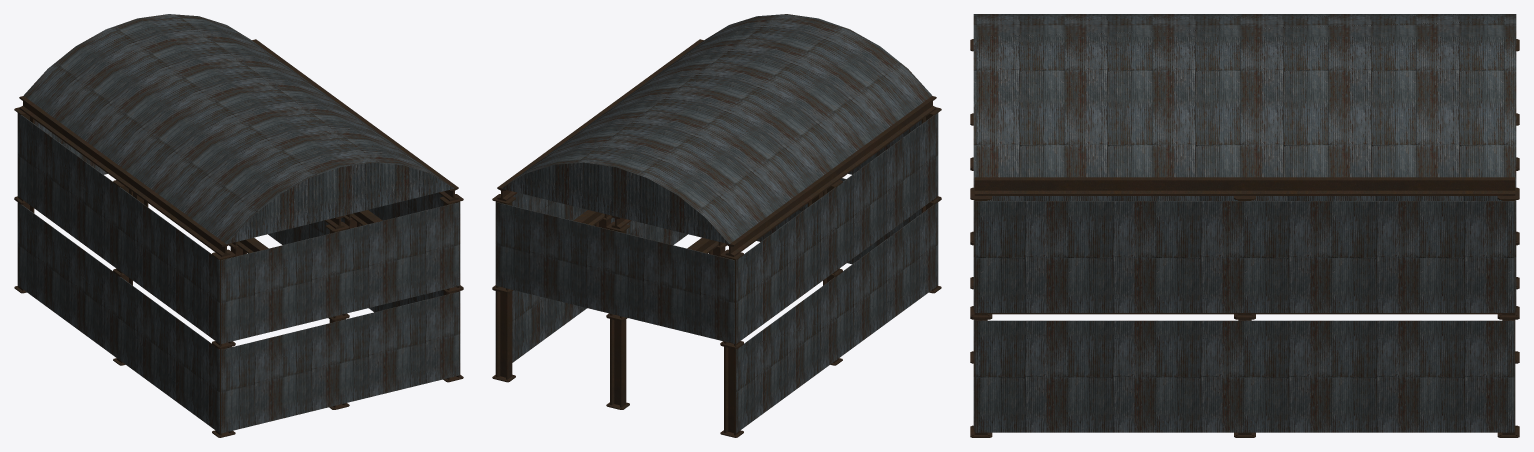
The model's file is warehouse_hl_1_single.obj.
3 renders of one model, left to right at view 1: azimuth 30°, elevation 25°; view 2: azimuth 150°, elevation 25°; view 3: azimuth 270°, elevation 25°, orthographic. The views are drawn at different scales.
Parts seen in each view (by area): view 1: warehouse_hl_1_single; view 2: warehouse_hl_1_single; view 3: warehouse_hl_1_single.
Part boxes in pixels (left/top/right/bottom): warehouse_hl_1_single: left=14, top=14, right=463, bottom=437; warehouse_hl_1_single: left=492, top=14, right=941, bottom=437; warehouse_hl_1_single: left=970, top=14, right=1519, bottom=437.
Bounding box in the file's own units: 8.6 × 8.06 × 12.5.
